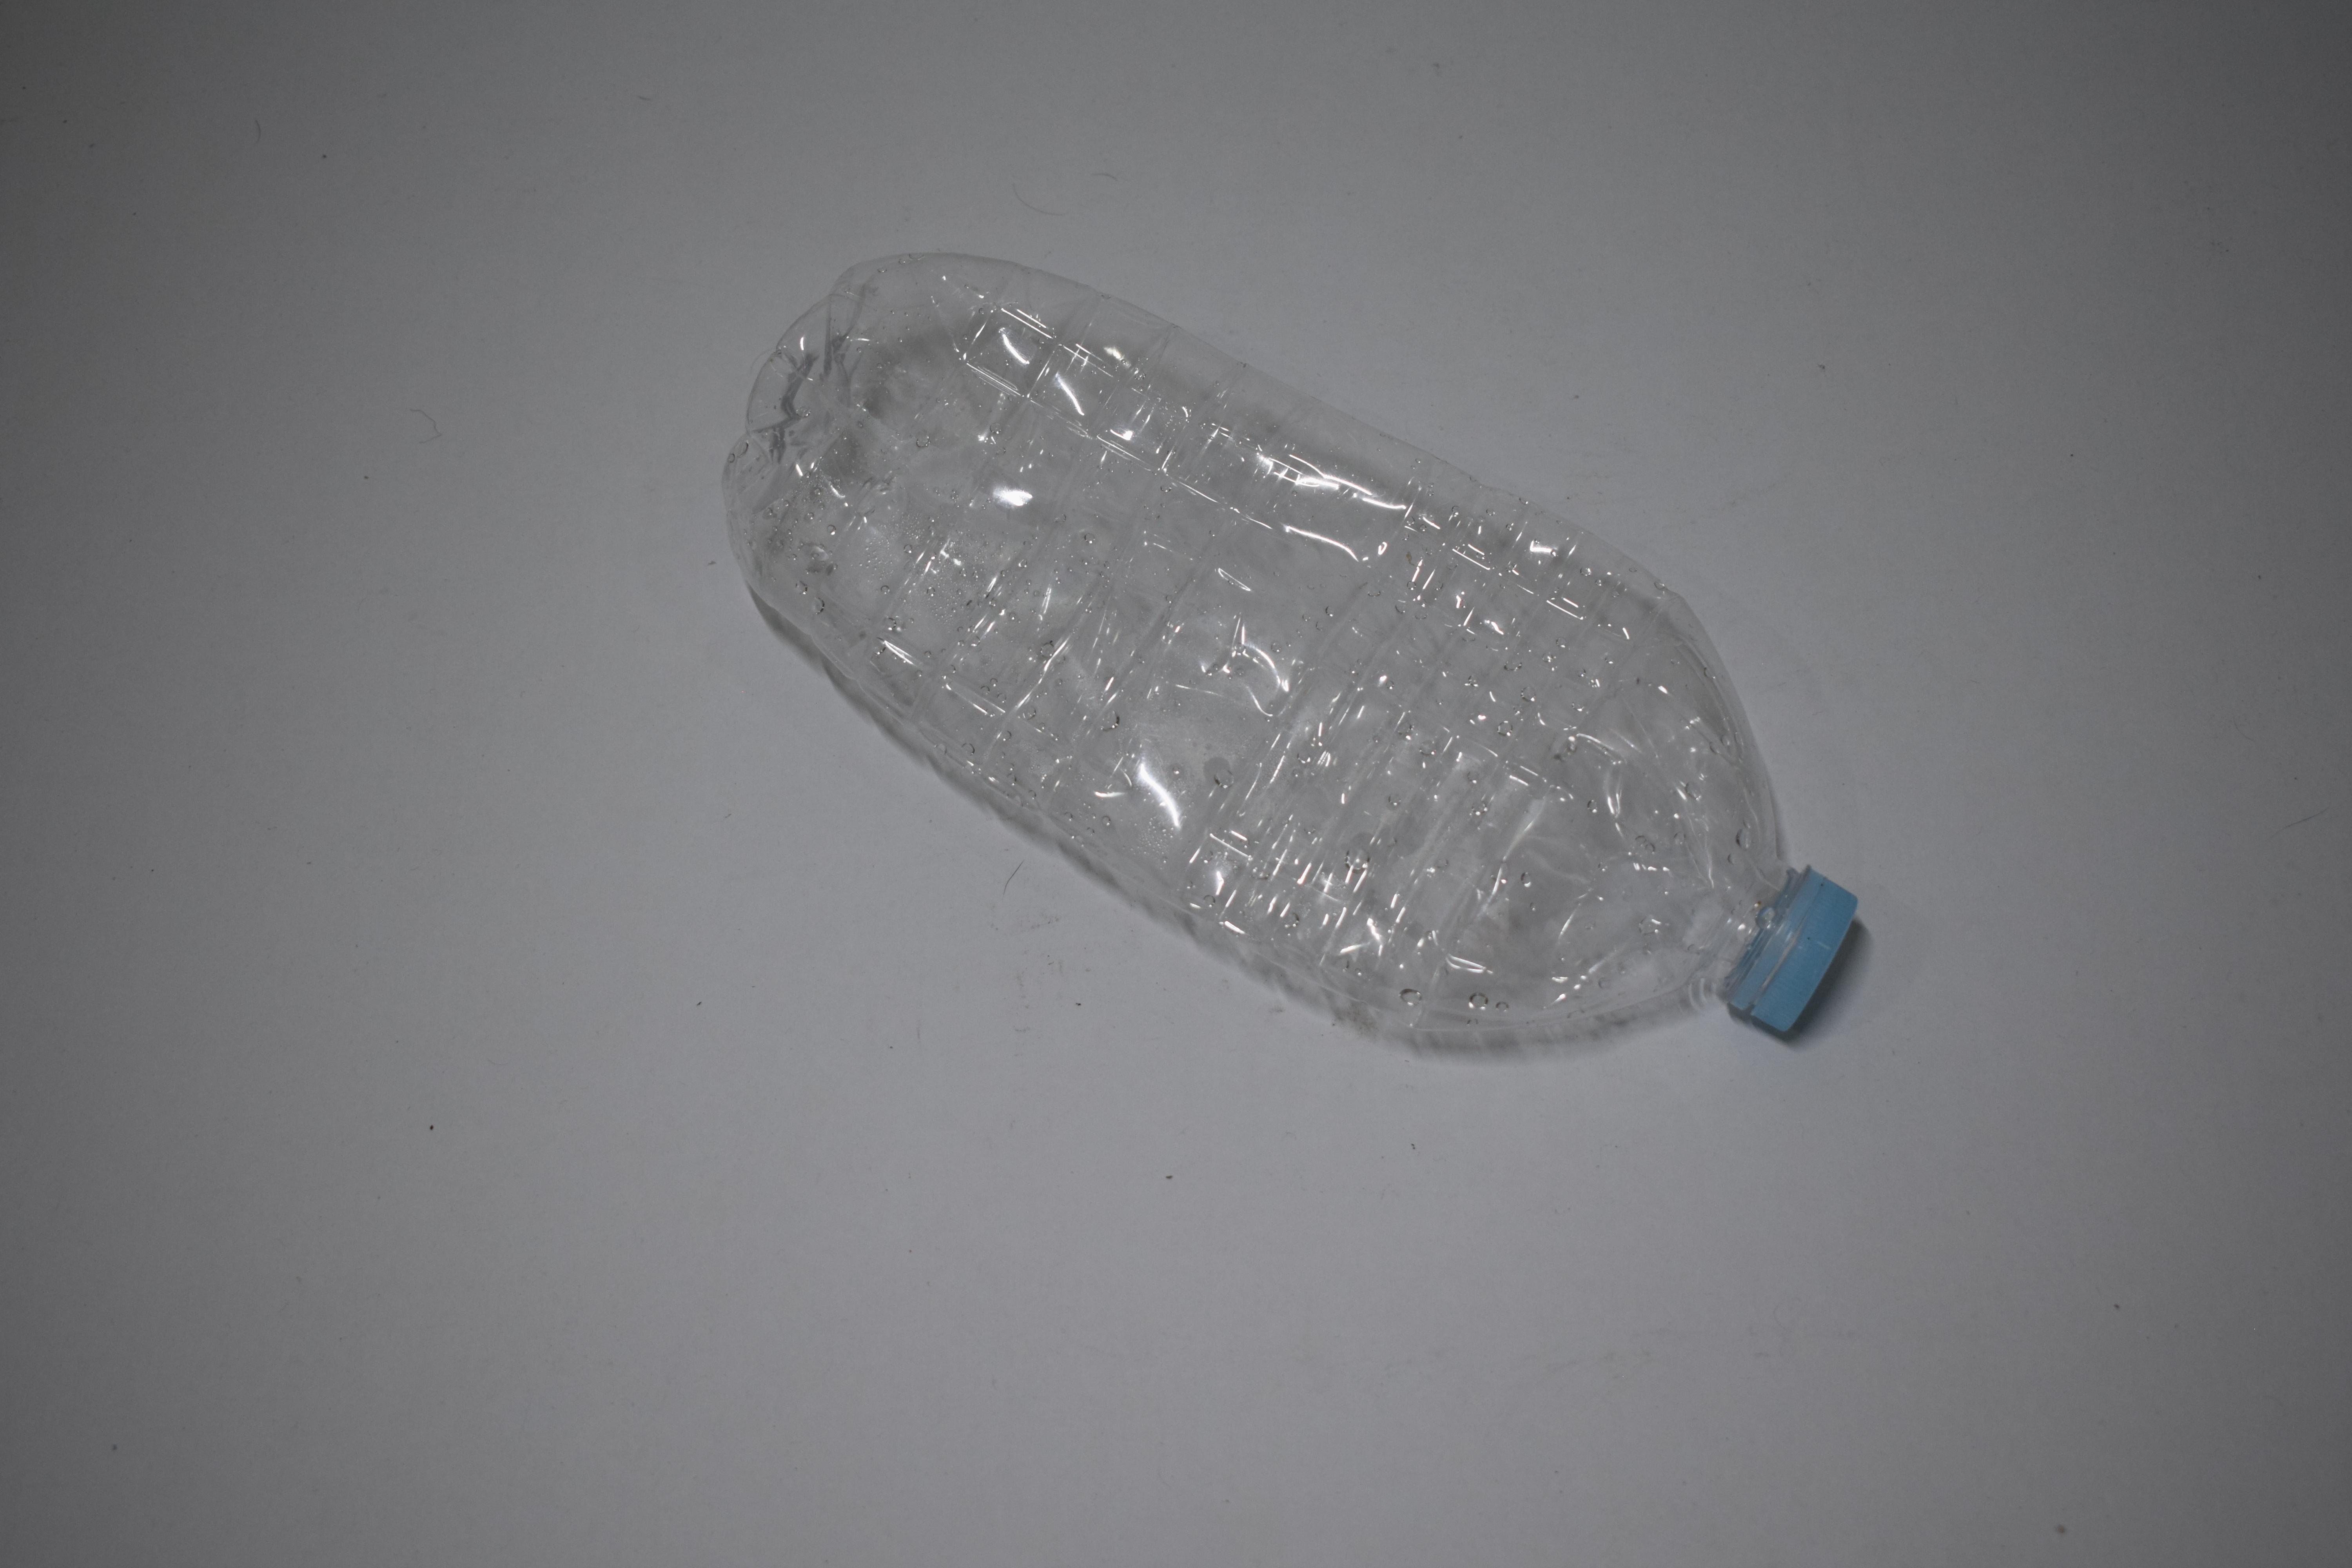bottle: (0, 639, 576, 667)
